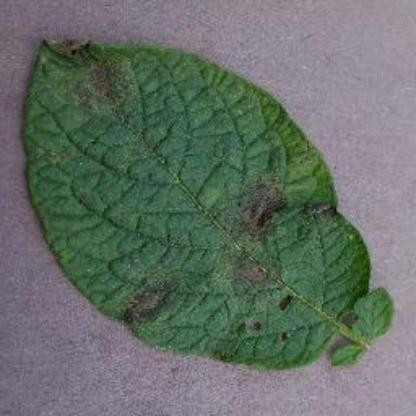Late-Blight: (21, 32, 394, 374)
